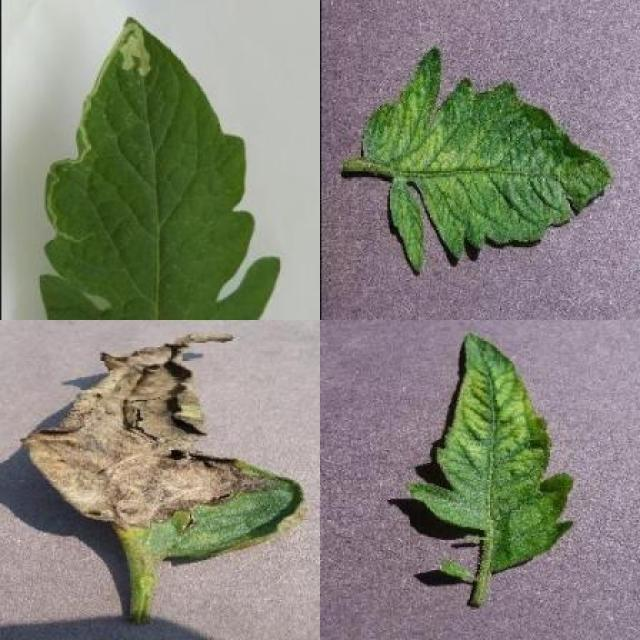Late Blight: (19, 332, 310, 567)
Leaf Miner: (37, 14, 280, 320)
Mosaic Virus: (359, 48, 610, 275), (402, 332, 578, 574)
